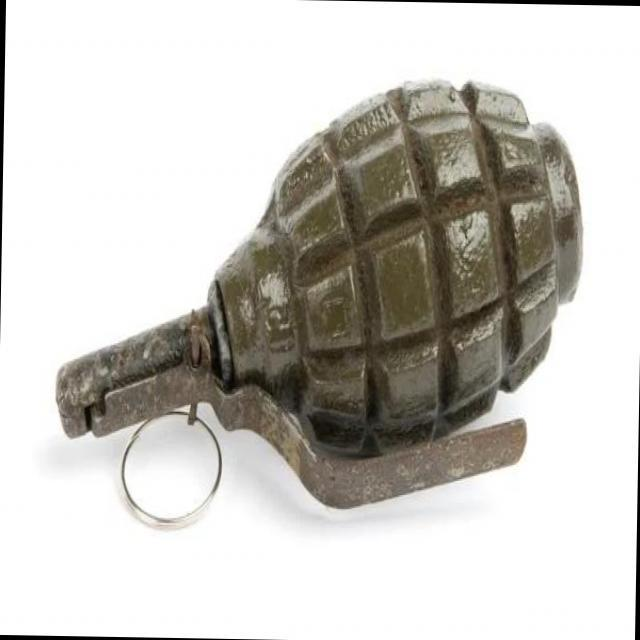grenade: (54, 63, 596, 533)
